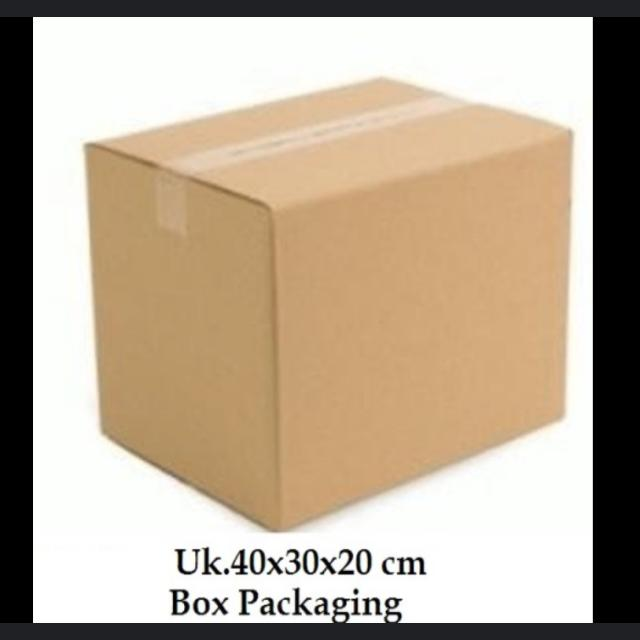Kardus: (82, 72, 574, 531)
